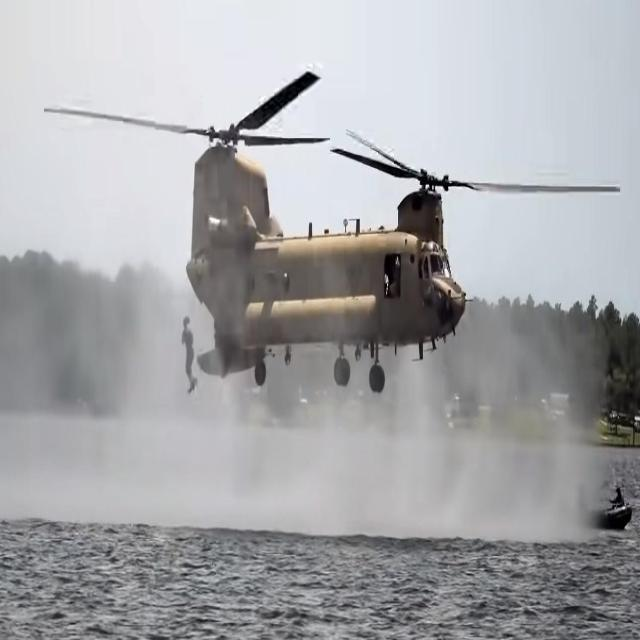Helicopter: (189, 88, 480, 403)
